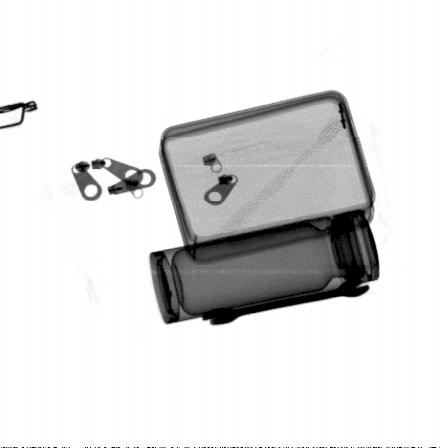Wrench: (202, 277, 371, 326)
